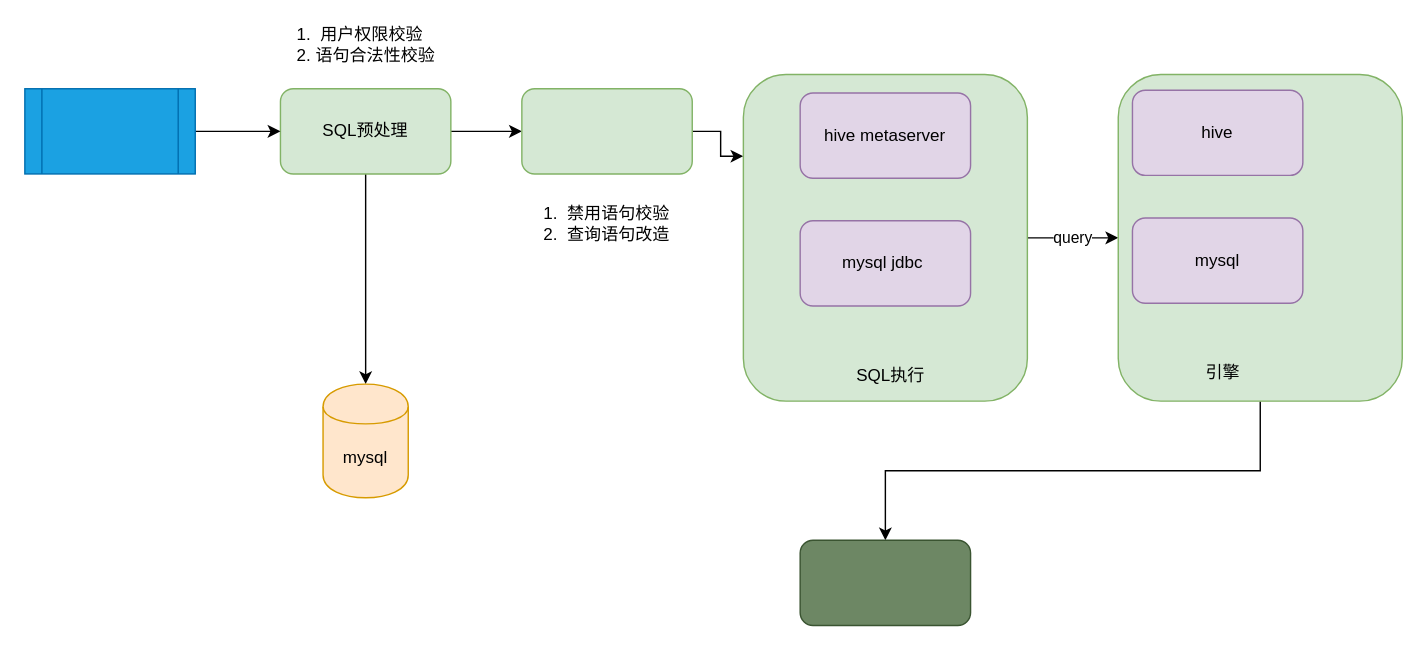
Some shapes in this 1427 by 650 pixel diagram are drawn without their labels. Here are the shapes that lost their labels. From the top down, the centre of each, then its label:
point (109, 130): SQL语句
point (606, 130): SQL解析
point (885, 582): 结果返回
